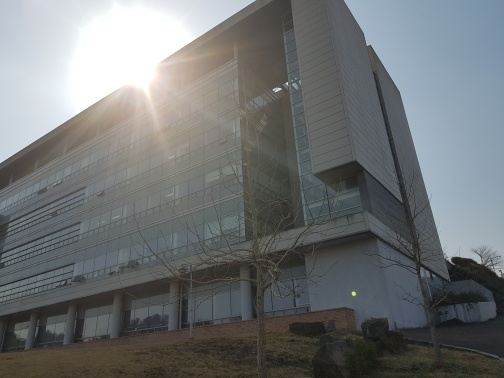Engineering College Building 4: (10, 71, 413, 336), (159, 15, 455, 332), (37, 95, 150, 326)
